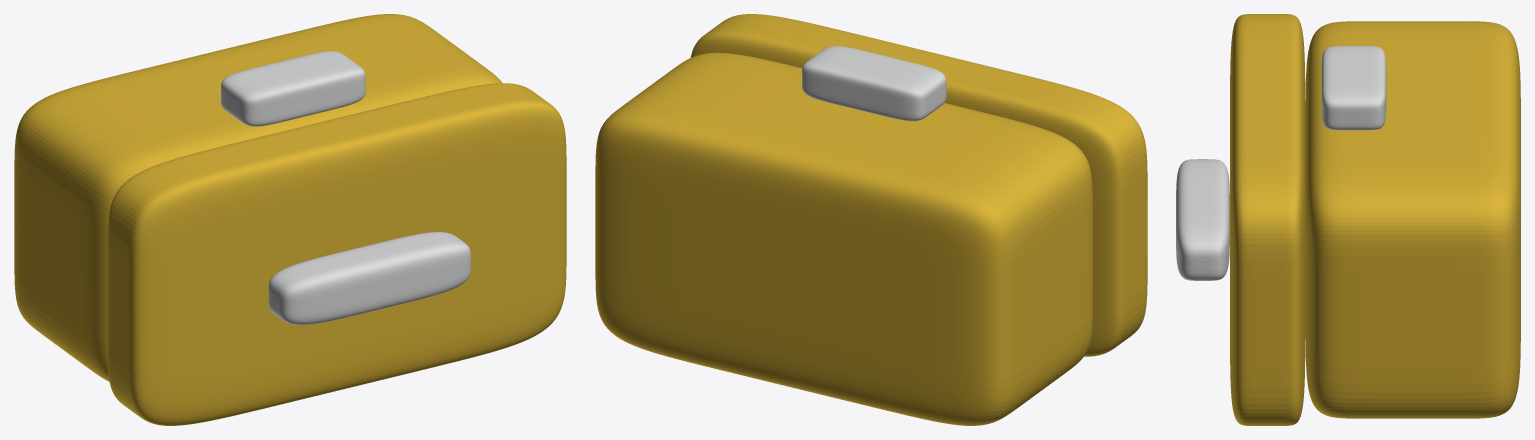
File: red_metal_toolbox_sq.glb
3 views of the same model, side by side, from view 1: azimuth 30°, elevation 25°; view 2: azimuth 150°, elevation 25°; view 3: azimuth 270°, elevation 25° (orthographic).
Visible parts, largest first — view 1: superquadric_1, superquadric_0, superquadric_2, superquadric_3; view 2: superquadric_0, superquadric_1, superquadric_3; view 3: superquadric_0, superquadric_1, superquadric_2, superquadric_3.
Part boxes in pixels (x1=…): superquadric_1: x1=107, y1=83, x2=566, y2=425; superquadric_0: x1=14, y1=14, x2=502, y2=381; superquadric_2: x1=268, y1=232, x2=470, y2=325; superquadric_3: x1=221, y1=51, x2=365, y2=126; superquadric_0: x1=595, y1=52, x2=1092, y2=425; superquadric_1: x1=690, y1=14, x2=1147, y2=356; superquadric_3: x1=802, y1=46, x2=946, y2=121; superquadric_0: x1=1305, y1=21, x2=1520, y2=418; superquadric_1: x1=1230, y1=14, x2=1305, y2=425; superquadric_2: x1=1176, y1=159, x2=1229, y2=280; superquadric_3: x1=1321, y1=46, x2=1386, y2=130.
Bounding box in the file's own units: 1 × 0.6044 × 0.6957.
